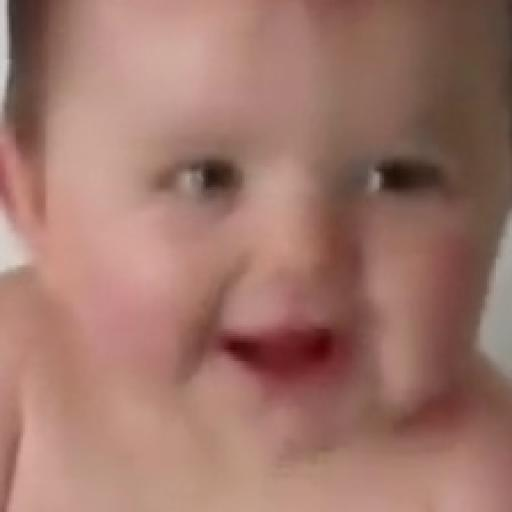Autism: (42, 14, 512, 468)
